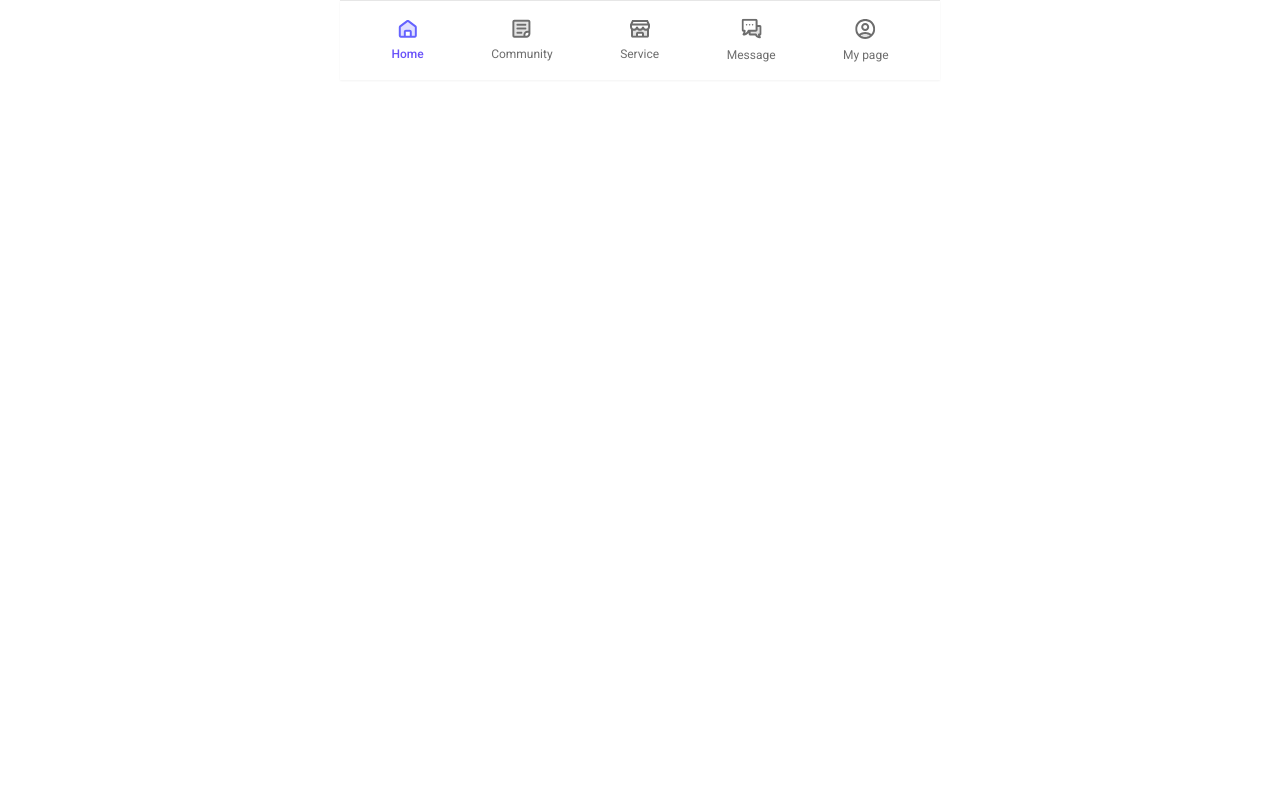
it: 게스트가 마이페이지 탭을 누르면 이동 대신 로그인 안내를 띄운다
Click the text "My page" at [866, 55], box left=843, top=47, right=888, bottom=63
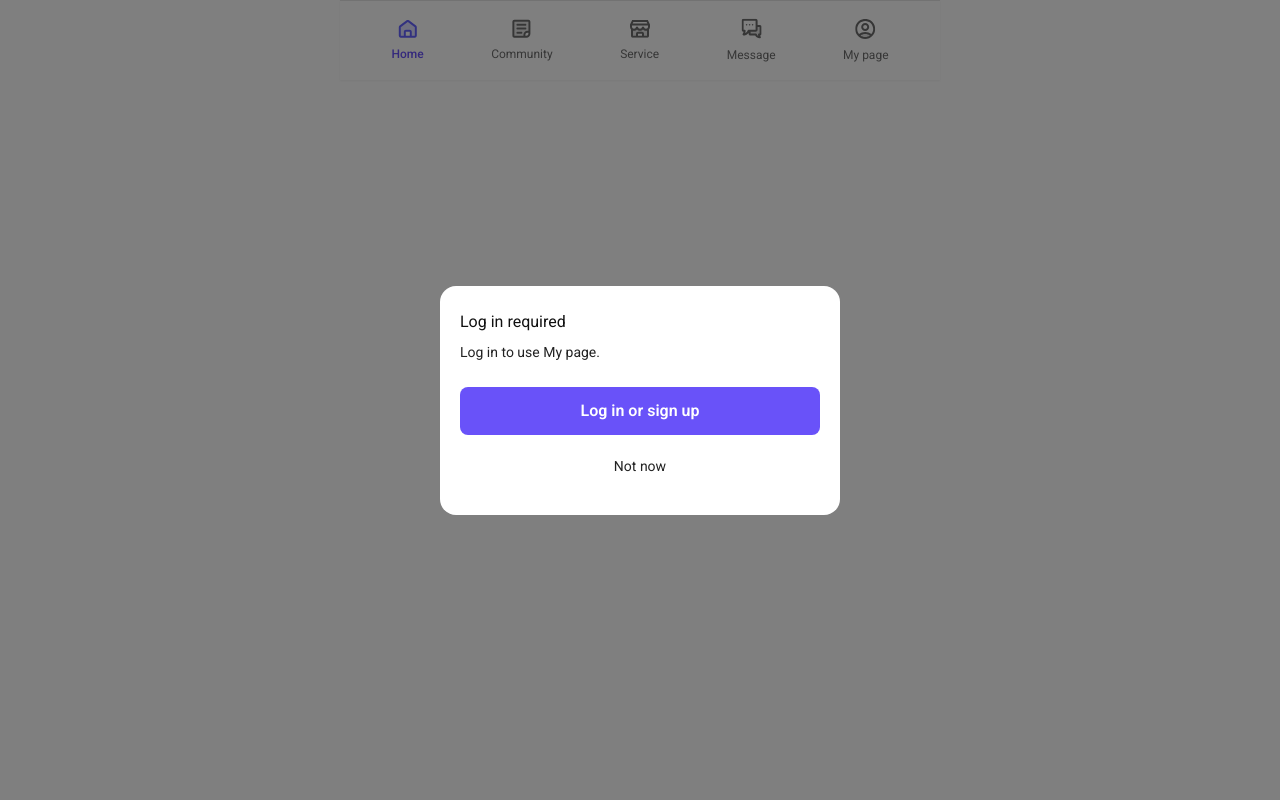
Check: the text "Log in to use My page." is shown, box left=460, top=344, right=600, bottom=360
